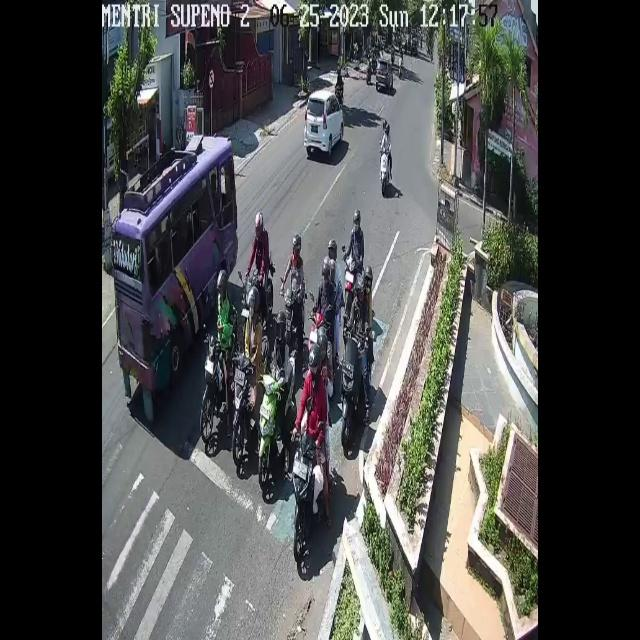bus: (291, 430, 330, 562), (259, 356, 296, 490), (231, 336, 267, 464), (339, 325, 372, 447), (200, 334, 236, 444), (241, 255, 277, 334), (279, 288, 303, 340), (344, 253, 357, 312), (380, 137, 392, 197), (308, 310, 326, 342)
car: (112, 136, 238, 423)
motorcycle: (303, 89, 345, 157), (375, 58, 393, 92)
